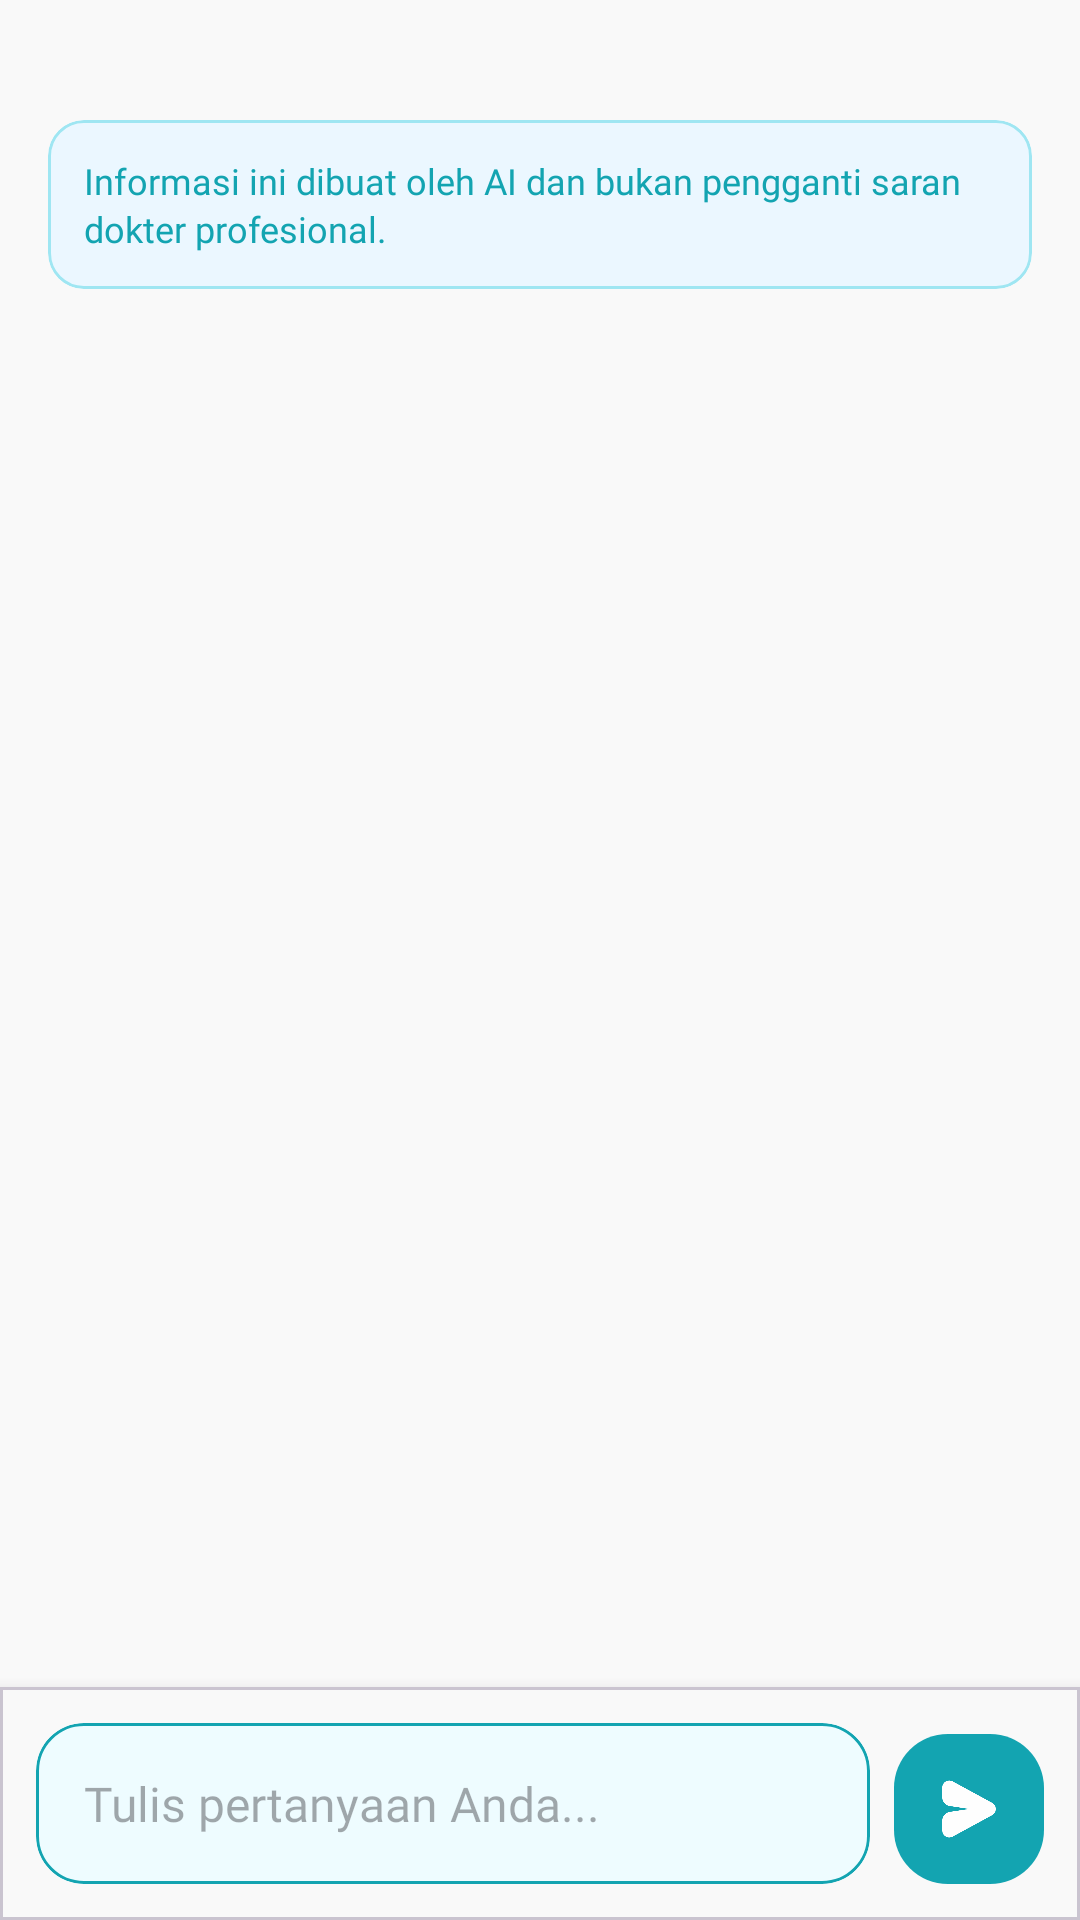

Locate icon controls on the screen. Image size 1080 × 1920, boxes as {"left": x1, "top": y1, "right": x2, "bottom": y2}.
send: {"left": 894, "top": 1734, "right": 1044, "bottom": 1884}
